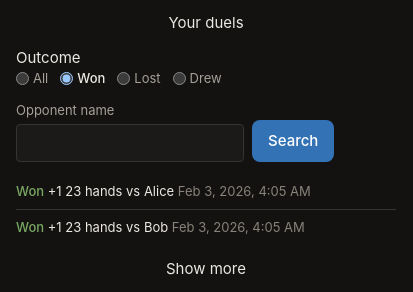
Test: the history screen › drops the cursor and the rows on a search, and keeps the outcome chosen
The width and height of the screenshot is (413, 292).
Check: the number of list items is 2, box [16,182,311,198]; [16,209,396,246]
Type "Ada" into the field labelled "Opponent name".
click(130, 143); type("Ada")  # box [16,124,244,162]
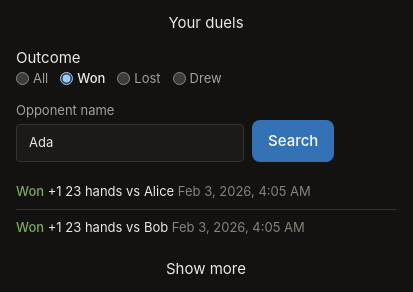
Click the button "Search".
click(293, 141)  # box [252,120,334,162]
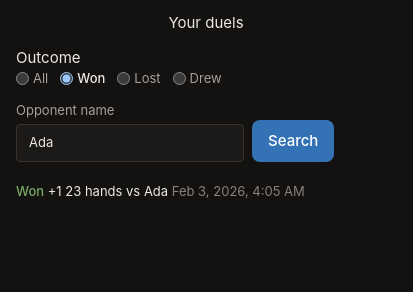
Check: the number of list items is 1, box [16,182,305,198]
Check: the list item shows "Ada", box [144,182,168,198]
Check: the text "Alice" is gone
